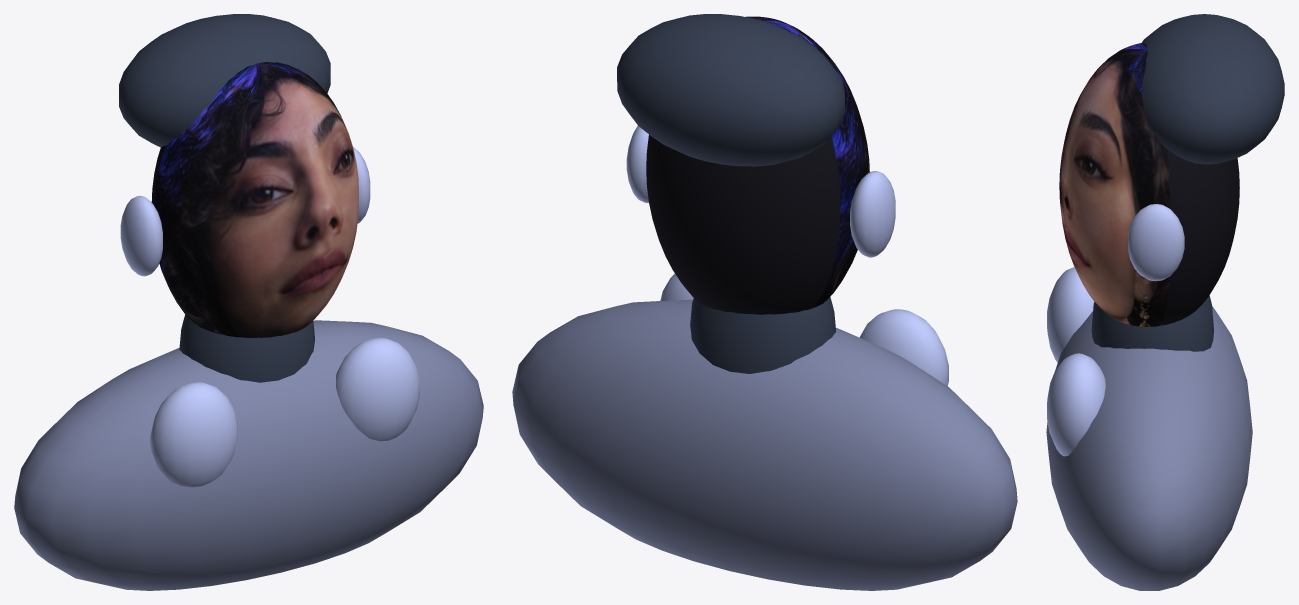
Rendered from performer.glb.
3 views of the same model, side by side, from view 1: azimuth 30°, elevation 25°; view 2: azimuth 150°, elevation 25°; view 3: azimuth 270°, elevation 25° (orthographic). The views are drawn at different scales.
Bounding box in the file's own units: 1.61 × 1.69 × 0.7386.
Materials: 4 (1 with a texture image).
